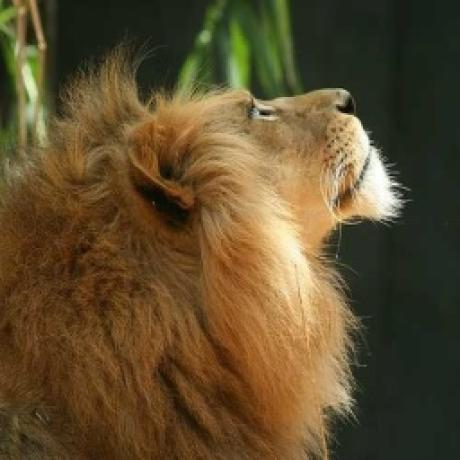Lion: (0, 64, 407, 460)
